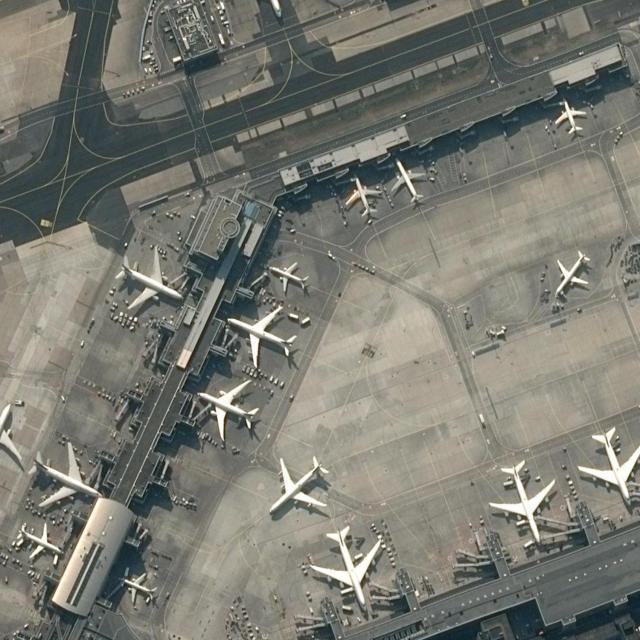Aircraft: (487, 459, 560, 548), (307, 527, 384, 610), (30, 444, 108, 512), (115, 246, 188, 316), (576, 428, 640, 507), (226, 308, 302, 372), (196, 380, 262, 449), (270, 453, 334, 519), (16, 523, 70, 567), (553, 250, 598, 302), (391, 158, 435, 209), (345, 176, 383, 222), (0, 405, 28, 467), (268, 261, 313, 297), (552, 97, 590, 139), (120, 572, 160, 610)
